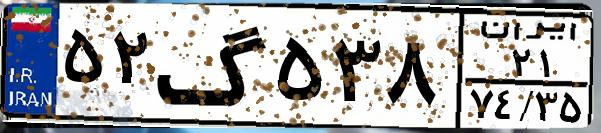1: (537, 27, 568, 80)
2: (110, 28, 156, 98), (508, 27, 537, 80)
3: (330, 28, 385, 110), (535, 70, 560, 125)
4: (495, 70, 520, 125)
5: (270, 28, 330, 110), (57, 26, 110, 100), (560, 70, 590, 125)
7: (470, 70, 495, 125)
8: (385, 28, 445, 110)
گ: (156, 12, 270, 120)
